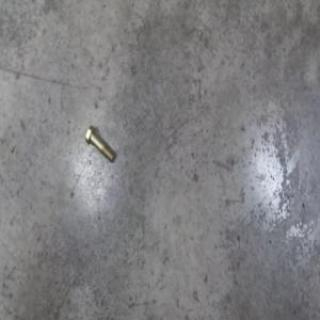Bolttrack_idkeyframe: (83, 124, 113, 164)
